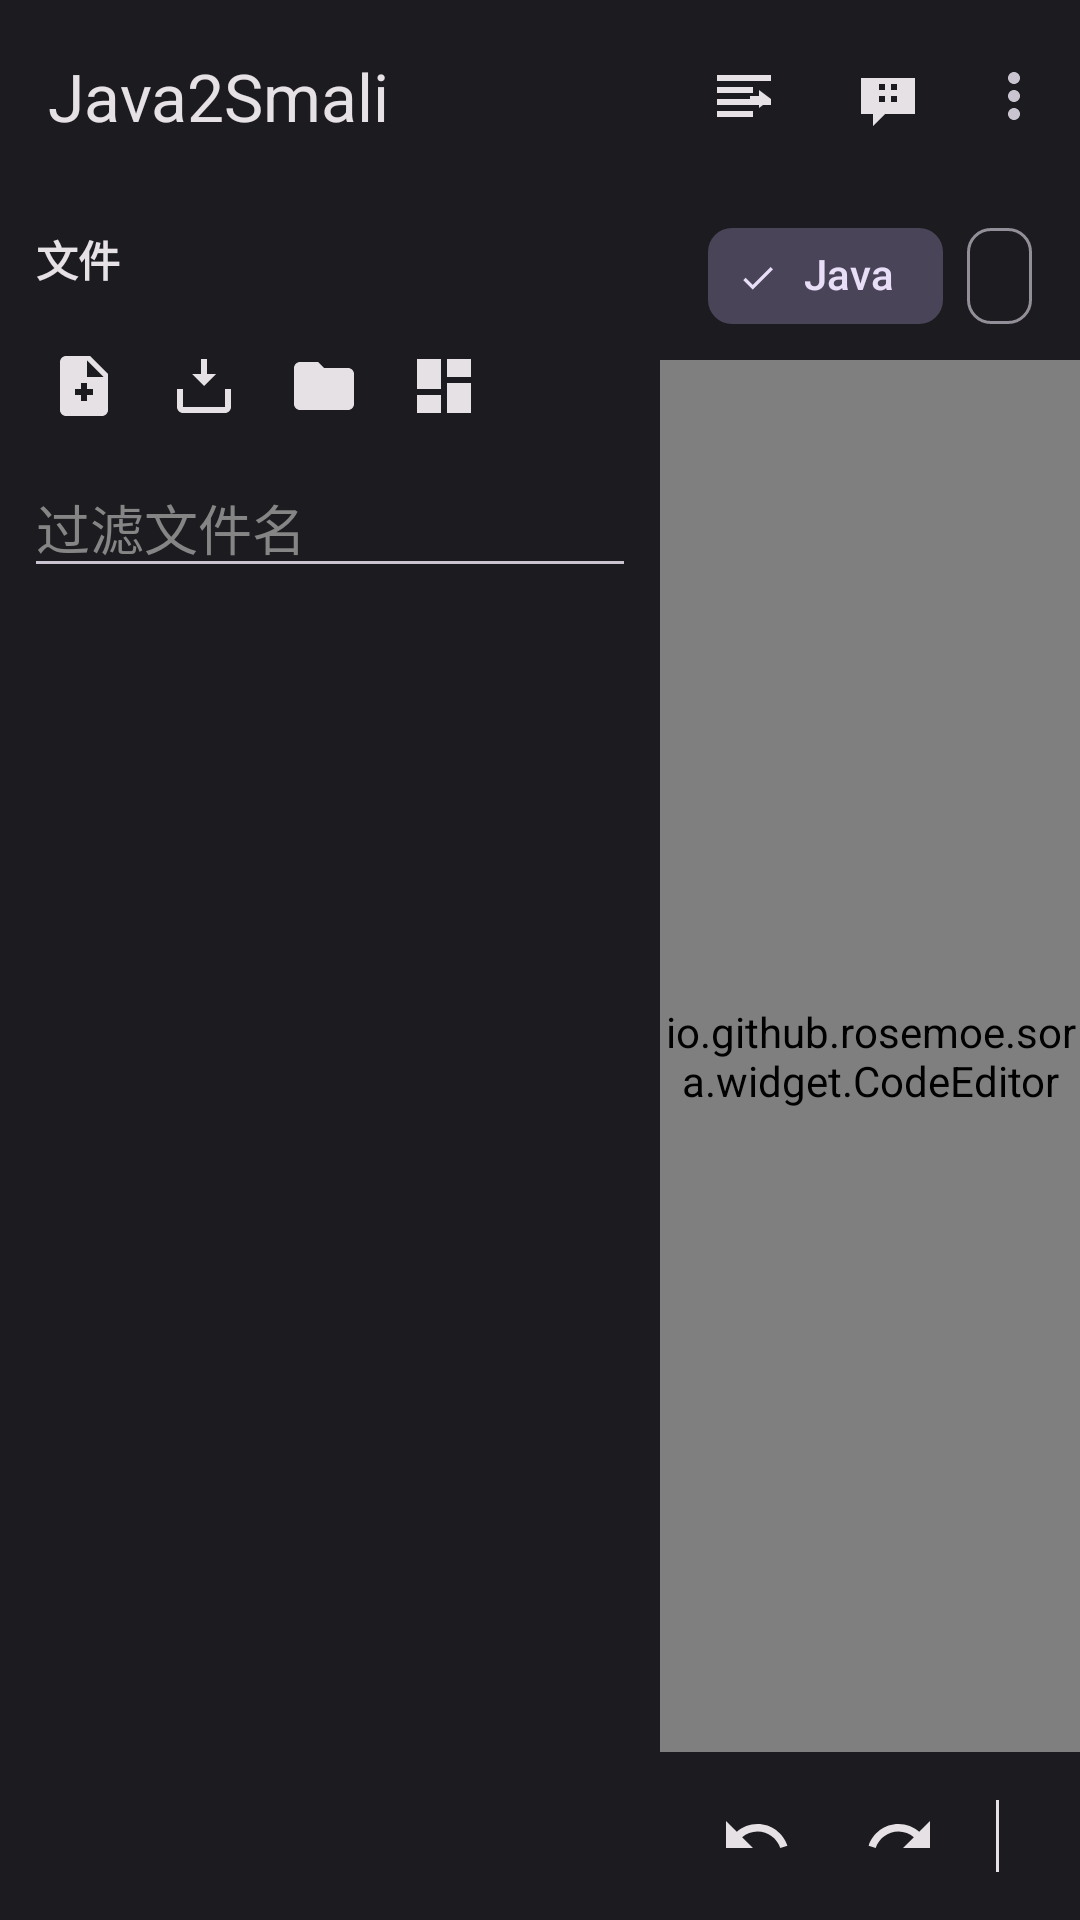

Locate icon controls on the screen. Image size 1080 × 1920, boxes as detection(x1, y1, x2, y2).
撤销: detection(726, 1821, 788, 1848)
新建: detection(60, 356, 108, 416)
新建工作区: detection(417, 359, 471, 413)
重做: detection(868, 1821, 930, 1848)
